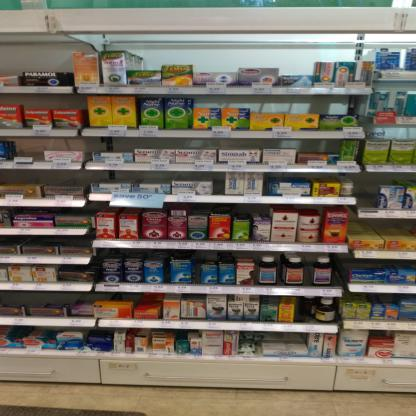Void: (252, 95, 354, 115), (139, 138, 298, 147), (0, 291, 90, 303), (348, 221, 412, 237), (14, 136, 80, 150), (23, 94, 83, 109), (357, 174, 378, 211), (88, 138, 130, 152), (305, 139, 338, 153), (298, 298, 314, 322)
